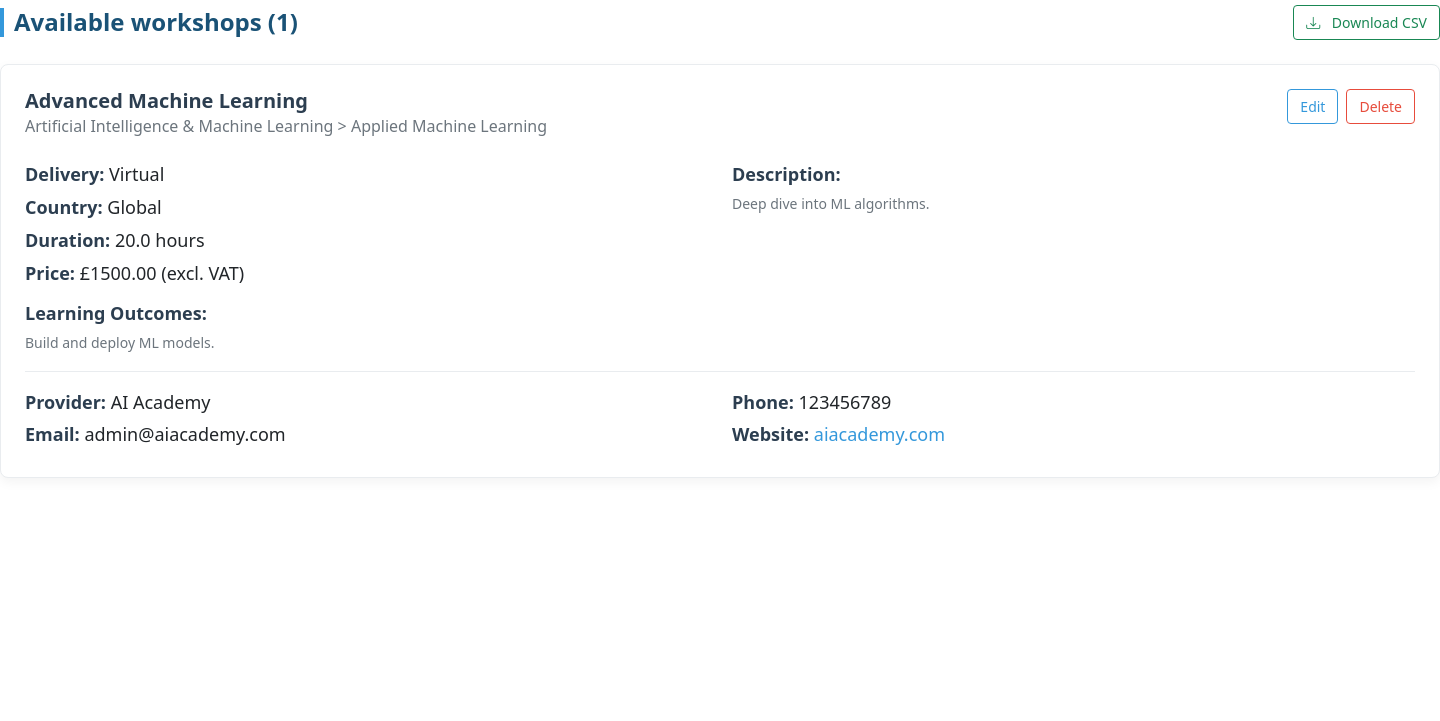
Test case: CoursesAdmin Component › updates course successfully
Expected: the heading "Available workshops (1)" is shown, x1=0 y1=8 x2=298 y2=37
Click the button "Edit".
click(1313, 106)  # box x1=1287 y1=89 x2=1338 y2=124
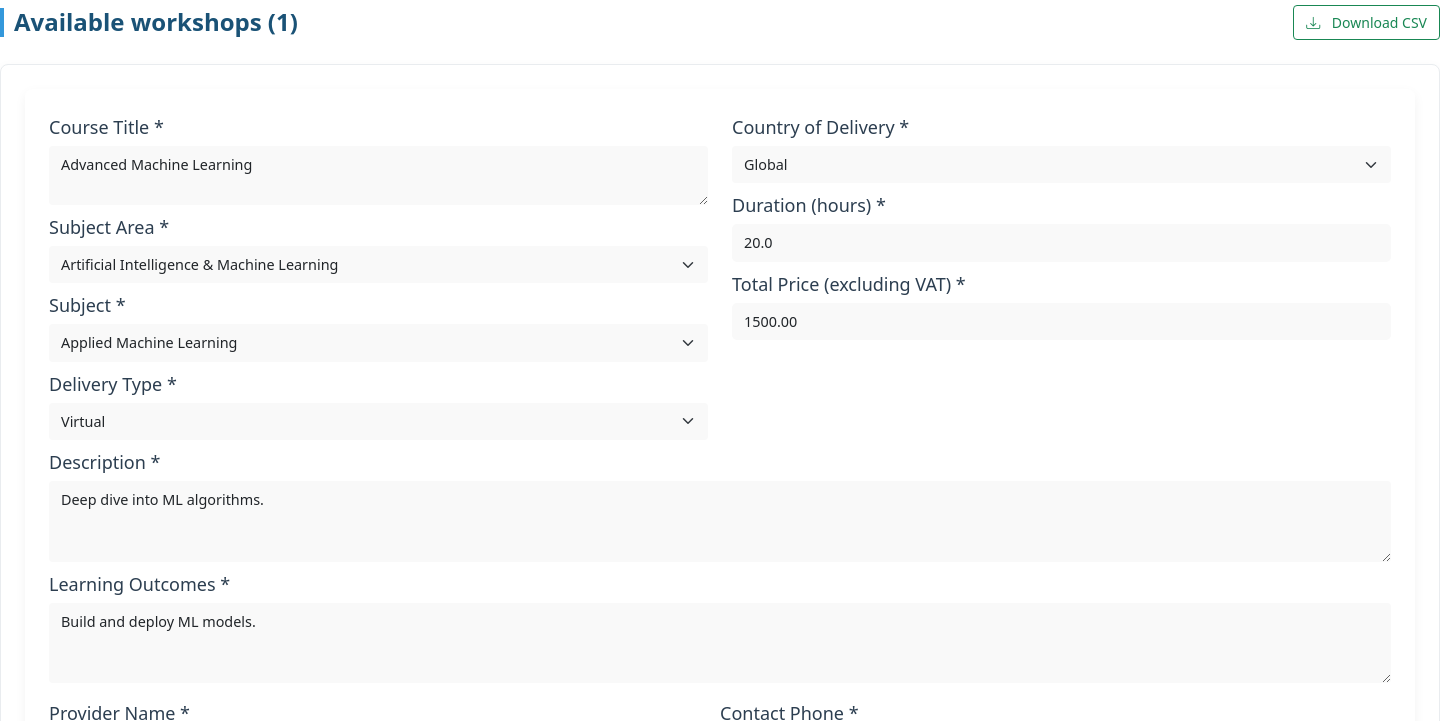
Replace the text in the text box showing "Advanced Machine Learning" below "Course Title *" with "Updated Machine Learning" at (378, 175), box x1=49 y1=146 x2=708 y2=205
(page scrolled)
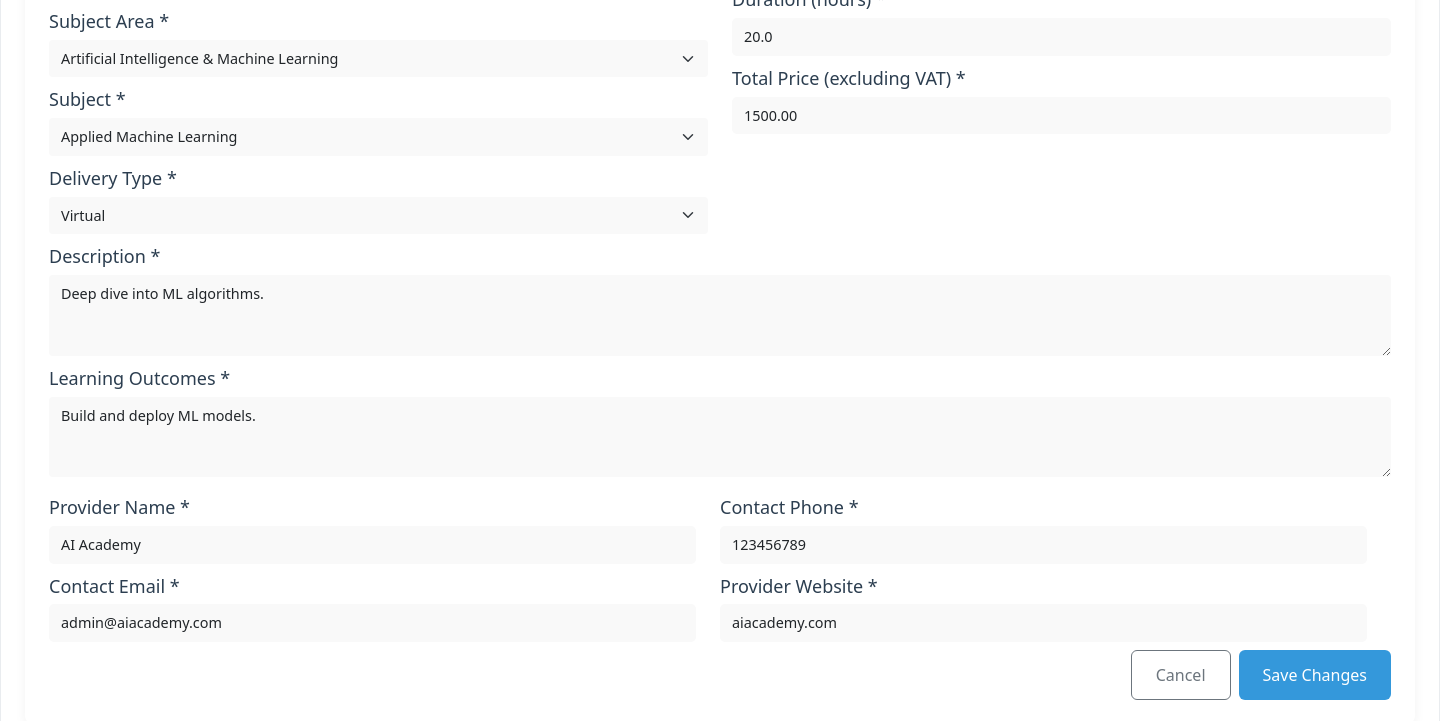
Click the button "Save Changes".
click(1315, 675)  # box x1=1238 y1=650 x2=1391 y2=700
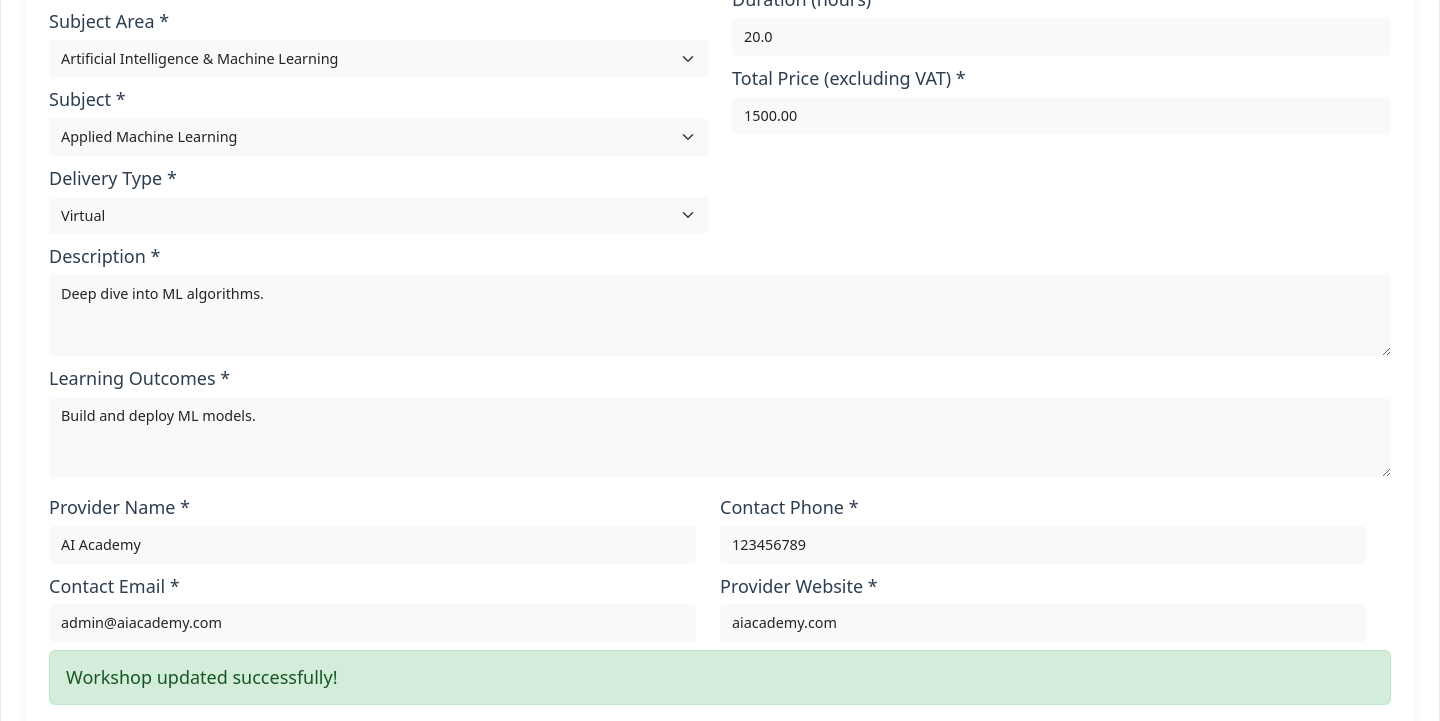
Now the text "Workshop updated successfully!" is shown, box x1=49 y1=650 x2=1391 y2=705
